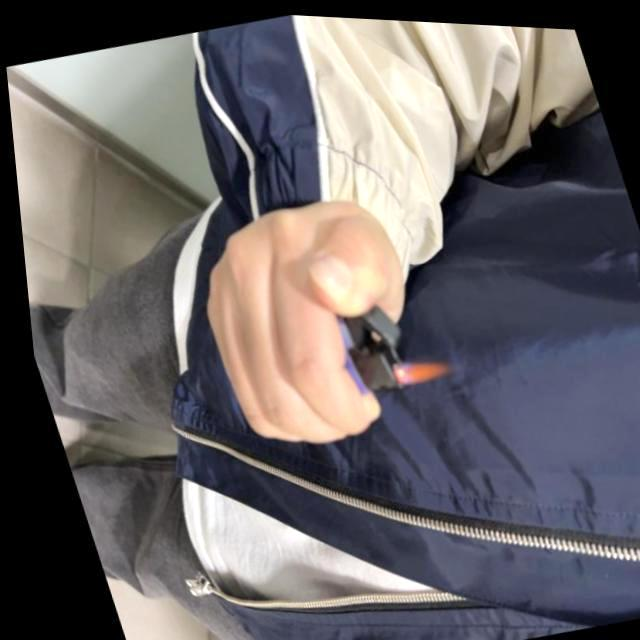fire: (380, 348, 452, 384)
